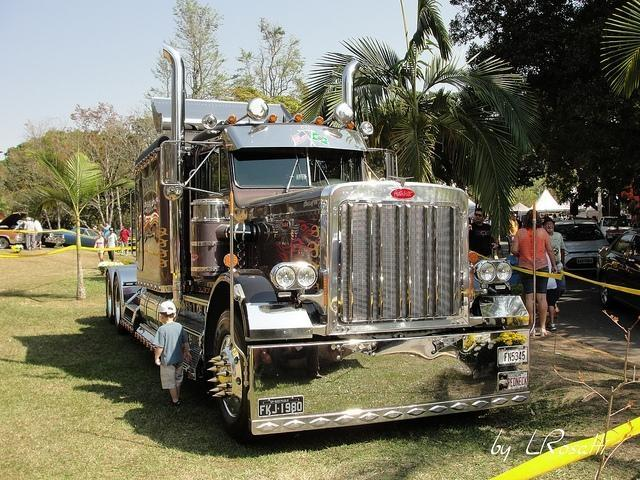car: (554, 216, 611, 280), (597, 227, 640, 310), (44, 227, 99, 248), (597, 216, 634, 244)
truck: (104, 45, 530, 435)
